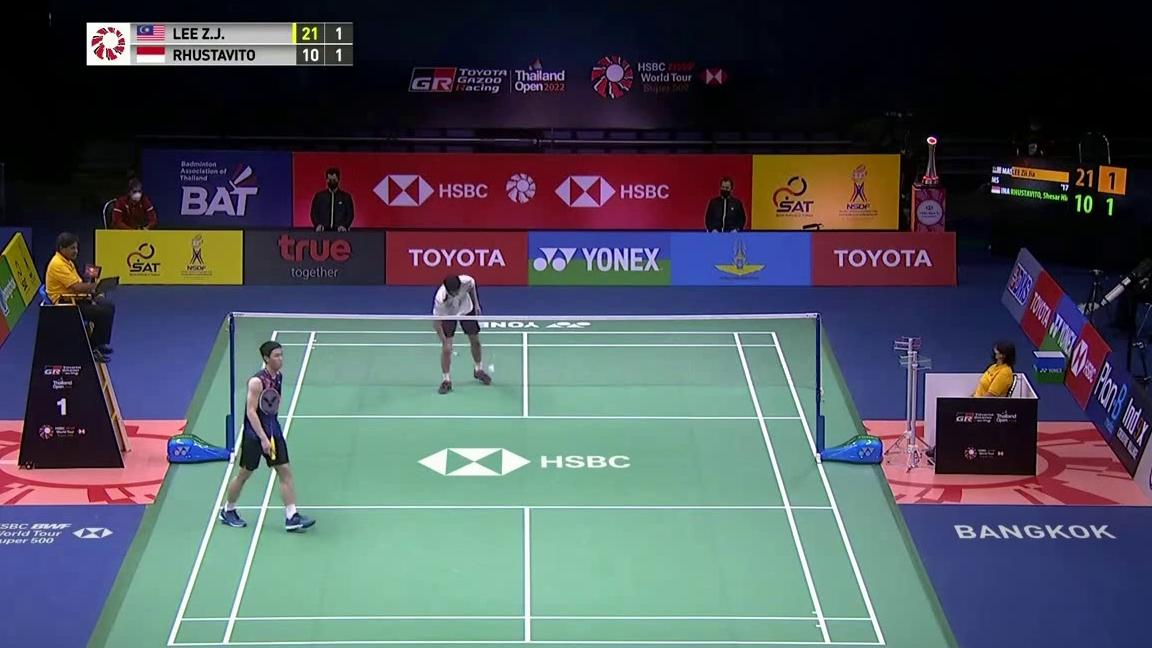racket: (259, 387, 280, 459)
shuttle: (487, 363, 495, 373)
